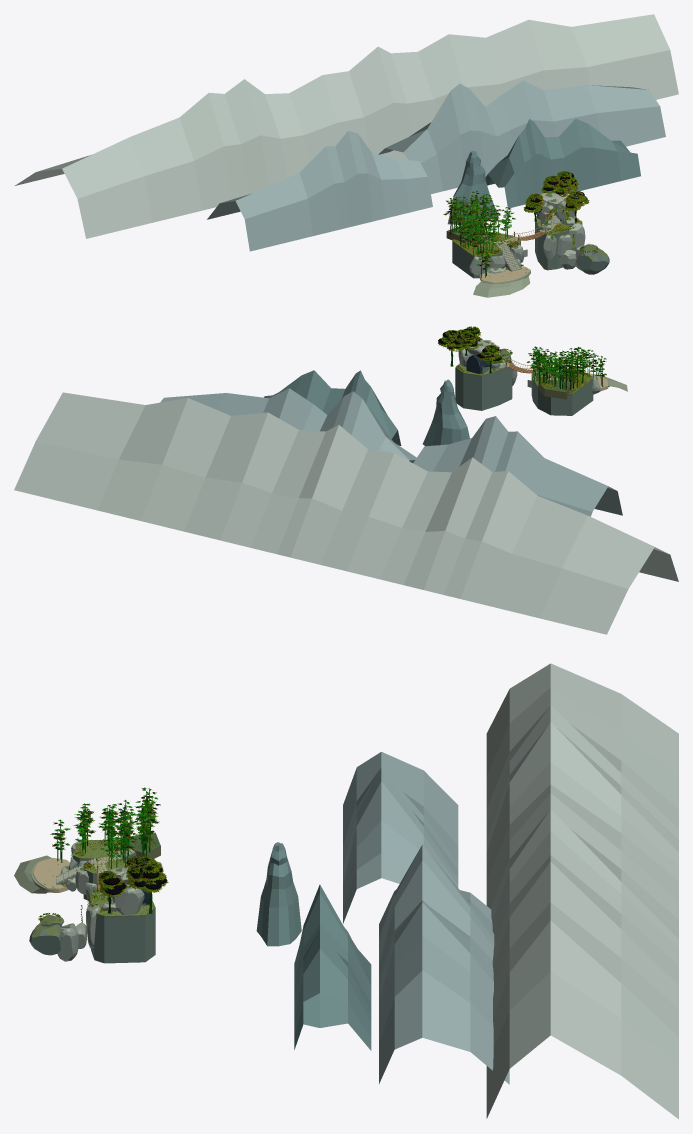
Rendered from pixel_cavern_coast.glb.
3 views of the same model, one above another, from view 1: azimuth 30°, elevation 25°; view 2: azimuth 150°, elevation 25°; view 3: azimuth 270°, elevation 25° (orthographic). The views are drawn at different scales.
Parts seen in each view (by area): view 1: Mountain_Far_Ridge, Mountain_Mid_Right, Mountain_Mid_Left, Mountain_Near_Right, Mountain_Karst_Near, Sand_Submerged_Slope, Rock_Right_Continuous_Core, Rock_Foreground_Continuation, Rock_Left_Continuous_Core, Sand_Cove, Grass_Left_Terrace; view 2: Mountain_Far_Ridge, Mountain_Mid_Left, Mountain_Mid_Right, Mountain_Near_Right, Rock_Right_Continuous_Core, Mountain_Karst_Near, Rock_Left_Continuous_Core; view 3: Mountain_Far_Ridge, Mountain_Mid_Right, Mountain_Mid_Left, Mountain_Near_Right, Mountain_Karst_Near, Rock_Right_Continuous_Core, Sand_Cove, Grass_Left_Terrace, Rock_Foreground_Continuation.
Part boxes in pixels (x1,y1,x2,y2): Mountain_Far_Ridge: (15,14,678,238); Mountain_Mid_Right: (378,80,665,194); Mountain_Mid_Left: (207,131,432,251); Mountain_Near_Right: (485,119,640,208); Mountain_Karst_Near: (447,150,498,225); Sand_Submerged_Slope: (473,276,529,297); Rock_Right_Continuous_Core: (535,221,582,270); Rock_Foreground_Continuation: (576,248,609,274); Rock_Left_Continuous_Core: (452,242,520,278); Sand_Cove: (480,266,530,283); Grass_Left_Terrace: (452,233,520,256); Mountain_Far_Ridge: (14,392,678,634); Mountain_Mid_Left: (413,416,622,516); Mountain_Mid_Right: (160,388,416,462); Mountain_Near_Right: (264,370,401,445); Rock_Right_Continuous_Core: (455,367,512,410); Mountain_Karst_Near: (423,379,469,446); Rock_Left_Continuous_Core: (531,374,593,415); Mountain_Far_Ridge: (486,663,678,1119); Mountain_Mid_Right: (379,844,509,1084); Mountain_Mid_Left: (343,752,458,923); Mountain_Near_Right: (294,884,371,1050); Mountain_Karst_Near: (256,842,301,946); Rock_Right_Continuous_Core: (90,899,155,963); Sand_Cove: (33,858,69,892); Grass_Left_Terrace: (73,840,126,873); Rock_Foreground_Continuation: (29,922,62,955).
Size of what is drawn, in the model's own units: 178 by 28.89 by 130.
